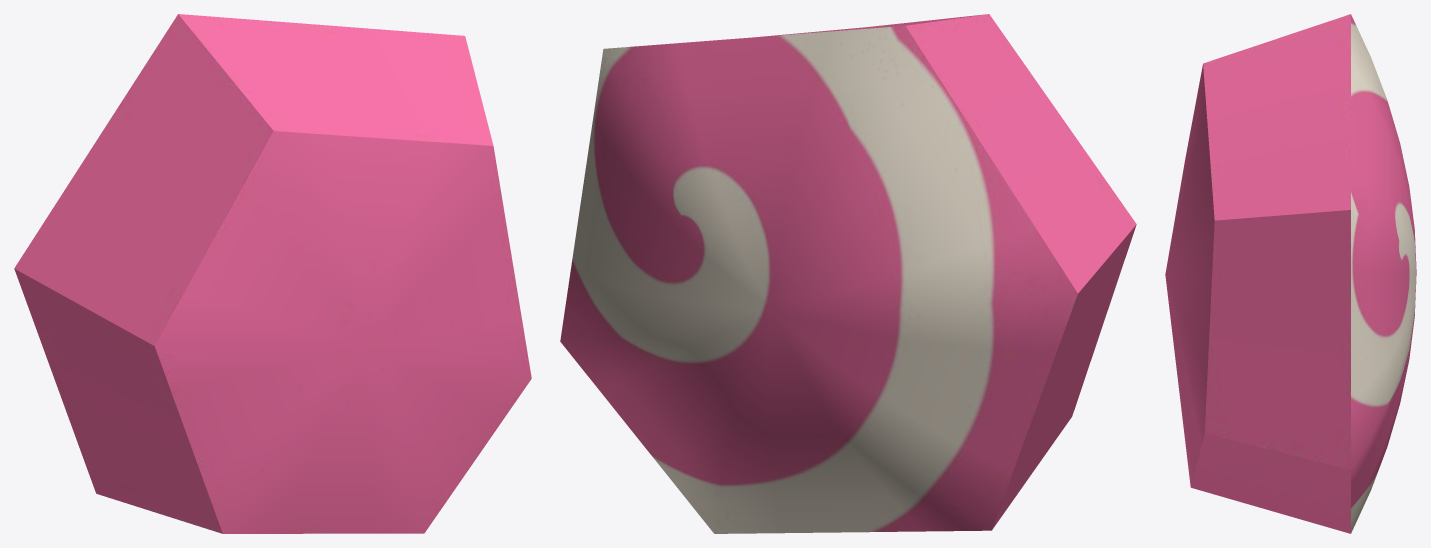
3 views of the same model, side by side, from view 1: azimuth 30°, elevation 25°; view 2: azimuth 150°, elevation 25°; view 3: azimuth 270°, elevation 25° (orthographic). The views are drawn at different scales.
Visible parts, largest first — view 1: Candy_glassy_fractures; view 2: Candy_glazed_swirl, Candy_glassy_fractures; view 3: Candy_glassy_fractures, Candy_glazed_swirl.
Part boxes in pixels (x1,y1,x2,y2): Candy_glassy_fractures: (14,14,531,533); Candy_glazed_swirl: (560,26,1077,533); Candy_glassy_fractures: (760,14,1136,529); Candy_glassy_fractures: (1165,14,1350,533); Candy_glazed_swirl: (1351,14,1416,533).
Bounding box in the file's own units: 0.84 × 0.86 × 0.44.
2 materials, 2 textured.
